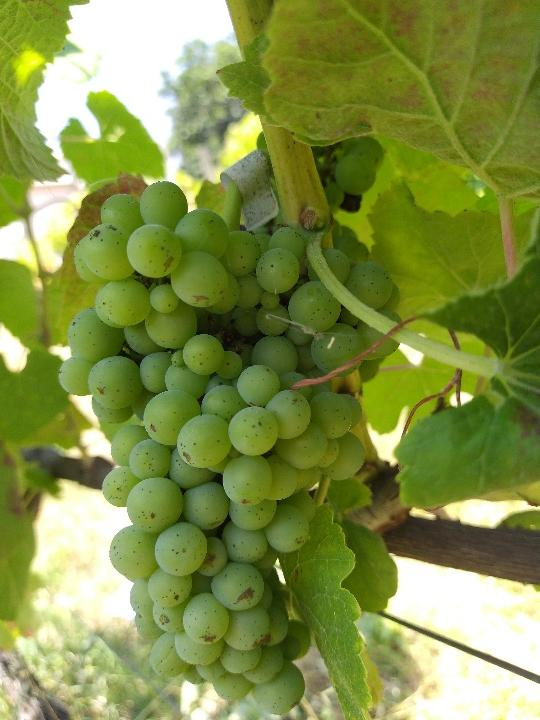grape: (55, 179, 408, 716)
